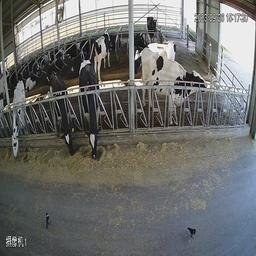cow: (139, 45, 209, 125), (75, 56, 105, 157), (43, 68, 74, 156), (10, 75, 30, 164), (95, 25, 114, 78), (147, 12, 161, 40)
